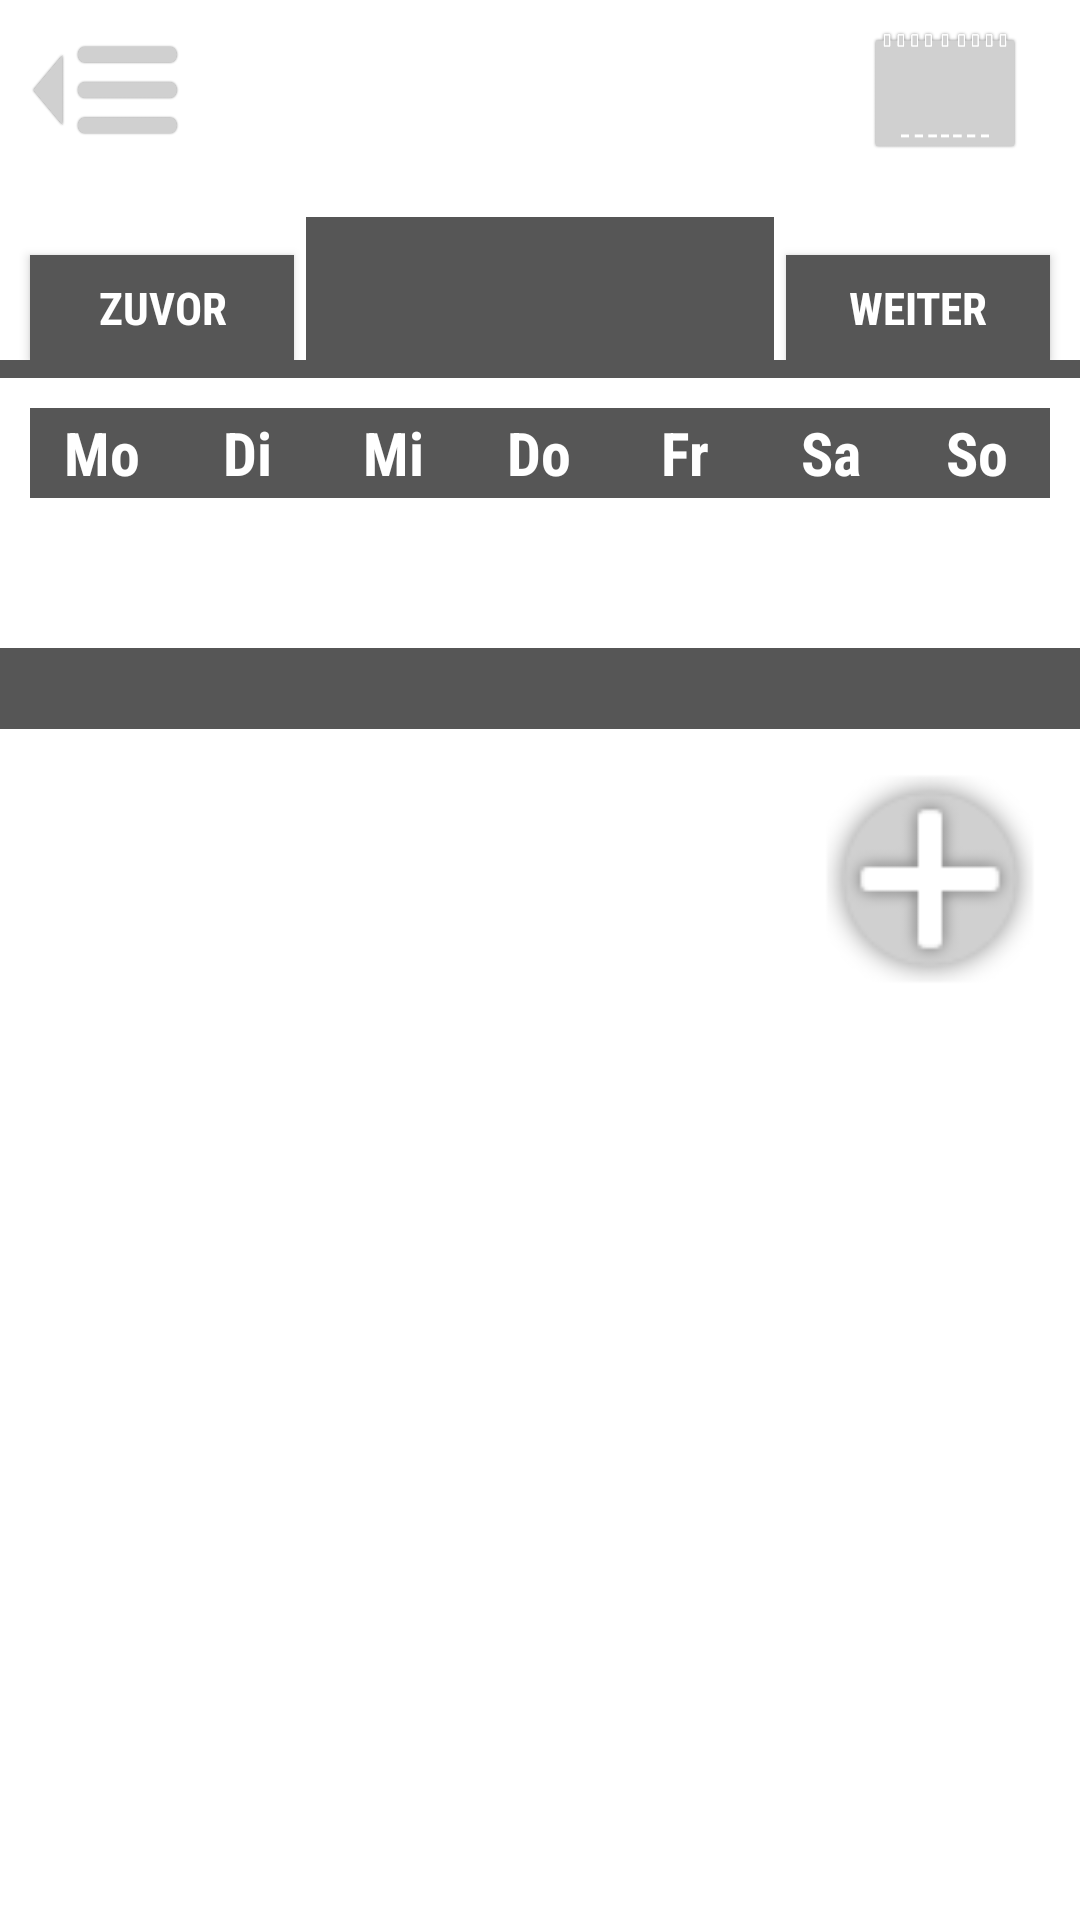

Screen size 1080 × 1920. Icon name, then its box in pixels as bbox=[x1, y1, x2, y2]:
aktuellertag: bbox=[875, 33, 1015, 147]
neuen Termin erstellen: bbox=[834, 782, 1026, 975]
